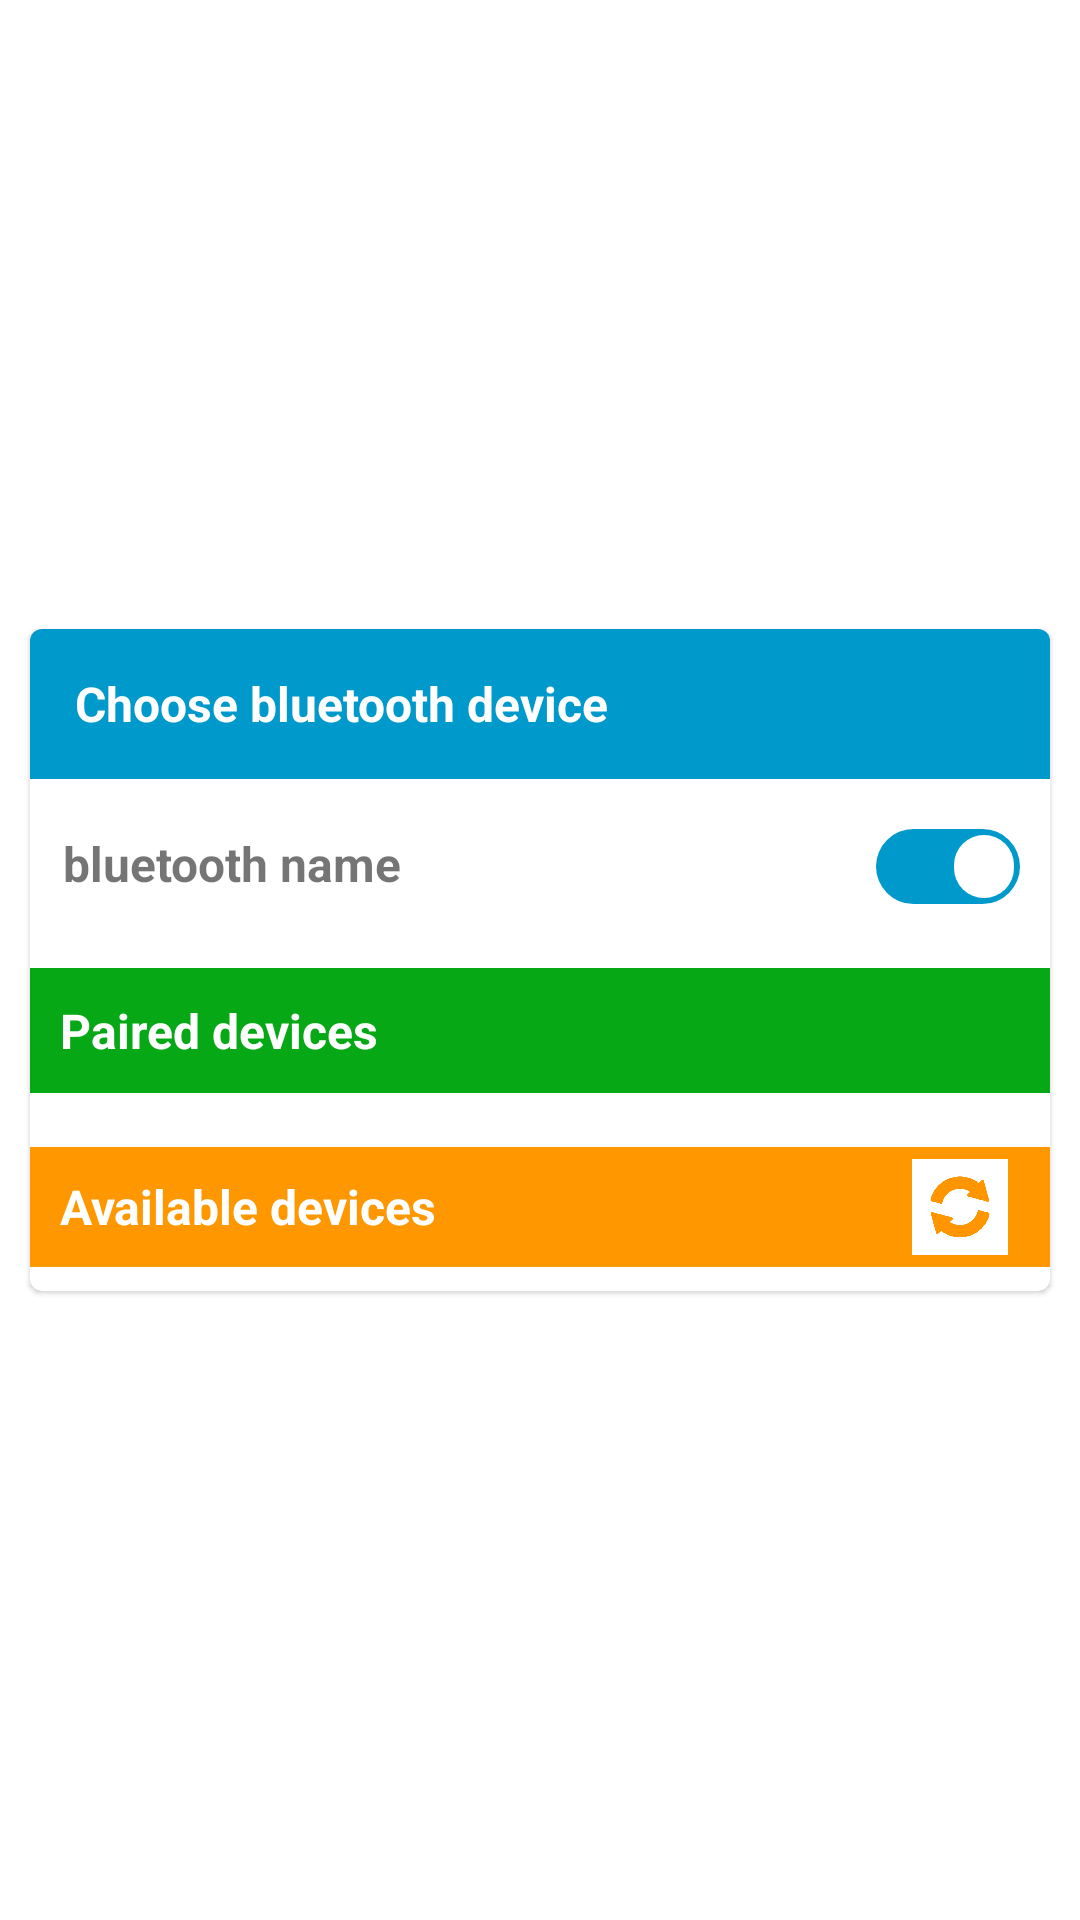

Icon click points for this 1080 x 1920 phone screenshot, format (x=x, y=y):
reload: (x=960, y=1207)
